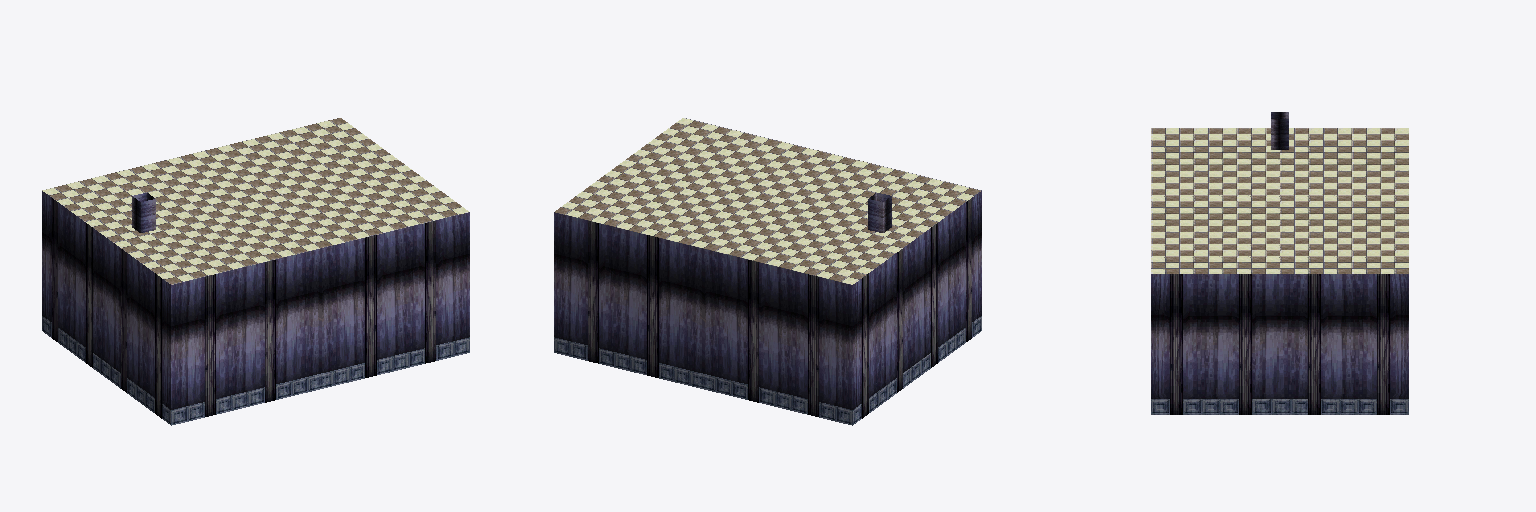
3 renders of one model, left to right at view 1: azimuth 30°, elevation 25°; view 2: azimuth 150°, elevation 25°; view 3: azimuth 270°, elevation 25°, orthographic.
Parts seen in each view (by area): view 1: r0; view 2: r0; view 3: r0.
Part boxes in pixels (x1,y1,x2,y2): r0: (42,118,469,425); r0: (554,118,981,425); r0: (1151,112,1408,414).
Bounding box in the file's own units: 4 × 2.2 × 3.
Materials: 8 (8 with a texture image).